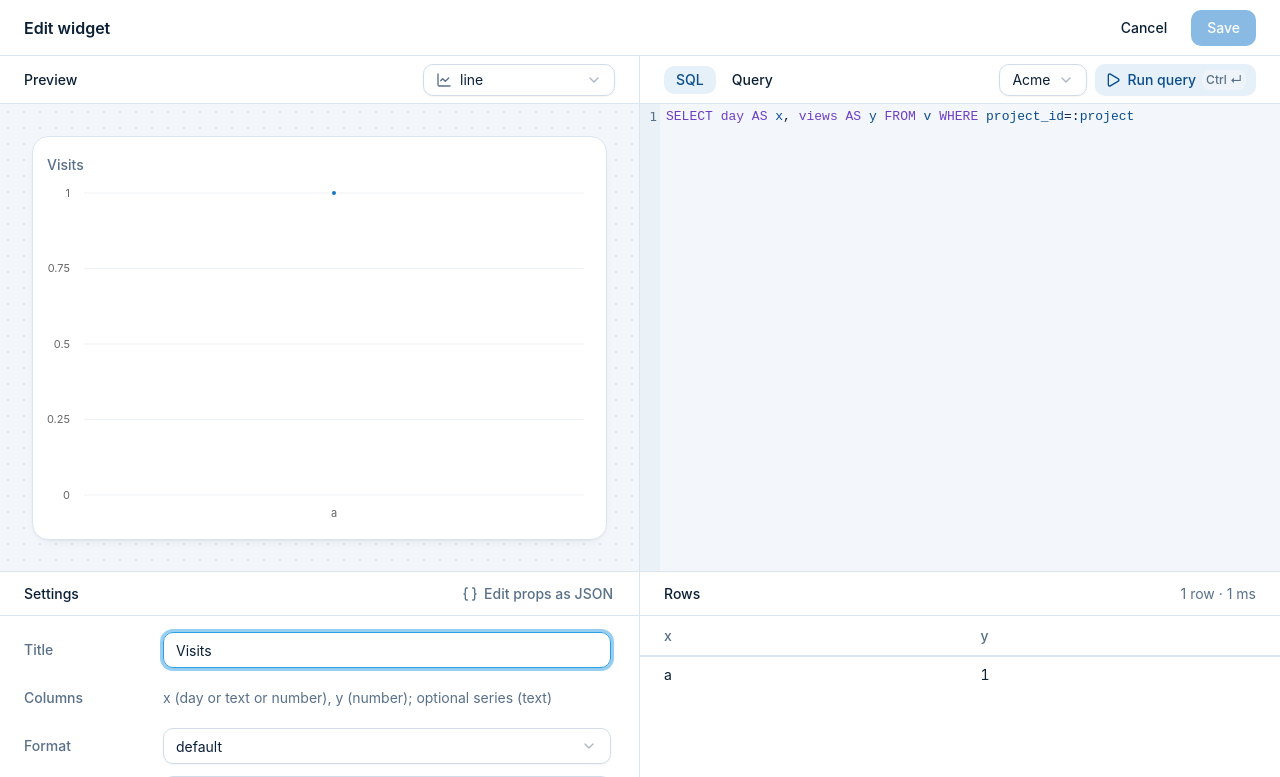
Test case: WidgetEditor › redraws from the same rows when the visualization changes
Check: the text "1 row · 1 ms" is shown, box [1180,584,1256,604]
Click the dropdown named "Visualization". click: (519, 80)
box: [423,64,615,96]
(page scrolled)
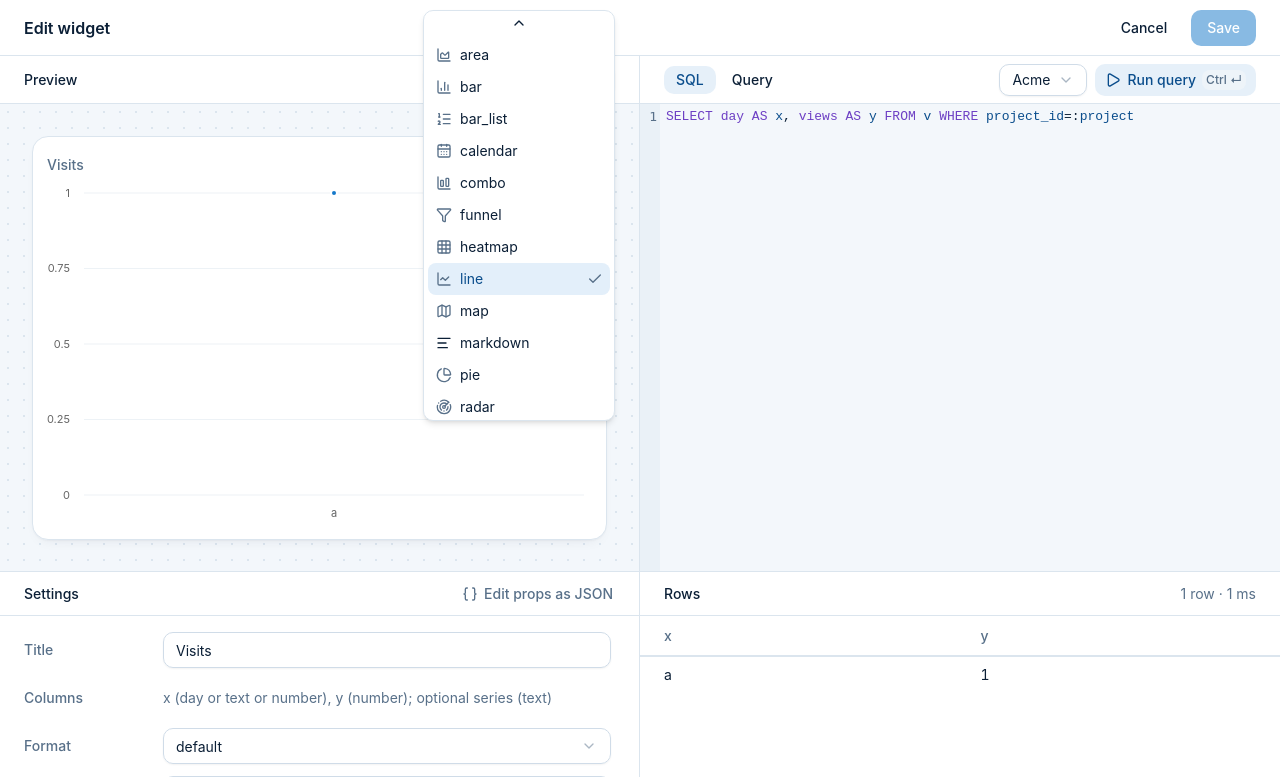
Click the option "calendar". click: (477, 150)
box: [436,142,518,159]
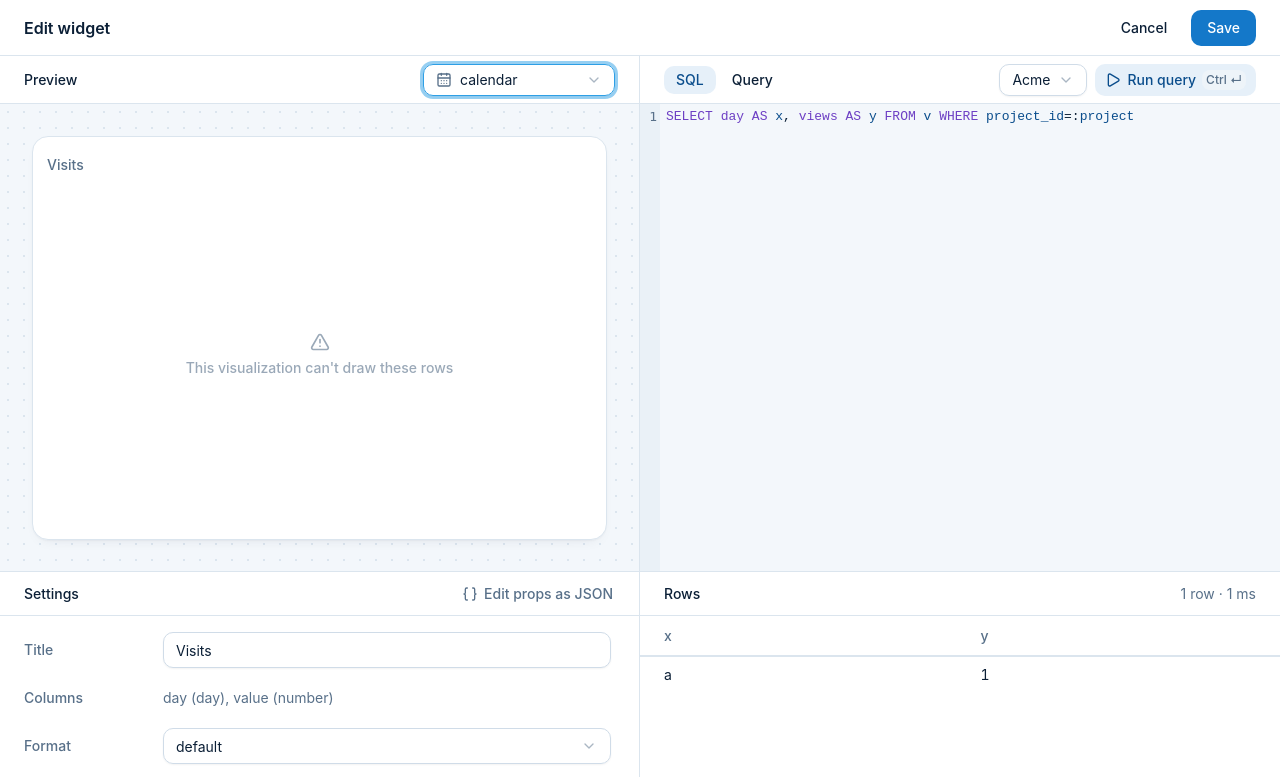
Check: the text "This visualization can't draw these rows" is shown, box [186,358,453,378]
